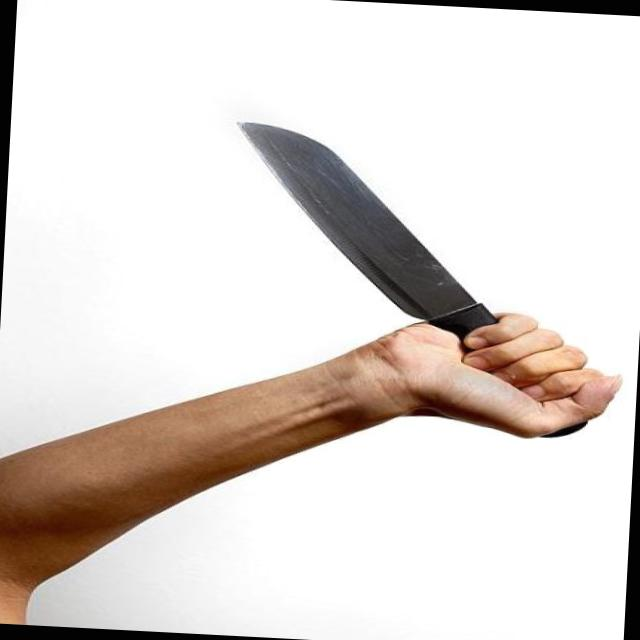knife: (208, 114, 595, 396)
